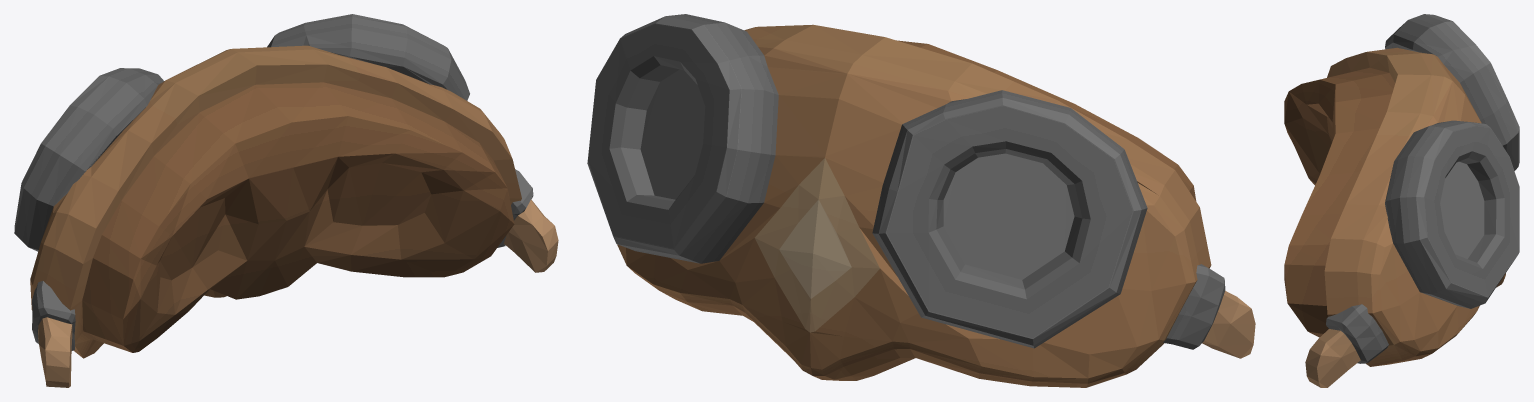
File: CharSkyKid_Face_AviatorMoth.glb
3 views of the same model, side by side, from view 1: azimuth 30°, elevation 25°; view 2: azimuth 150°, elevation 25°; view 3: azimuth 270°, elevation 25° (orthographic). The views are drawn at different scales.
Parts seen in each view (by area): view 1: CharSkyKid_Face_AviatorMoth; view 2: CharSkyKid_Face_AviatorMoth; view 3: CharSkyKid_Face_AviatorMoth.
Boxes of the visible parts, bbox=[...] form: CharSkyKid_Face_AviatorMoth: bbox=[14, 14, 558, 387]; CharSkyKid_Face_AviatorMoth: bbox=[587, 14, 1255, 387]; CharSkyKid_Face_AviatorMoth: bbox=[1284, 14, 1519, 387].
Bounding box in the file's own units: 2.52 × 1.2 × 1.13.
1 material, 1 textured.
